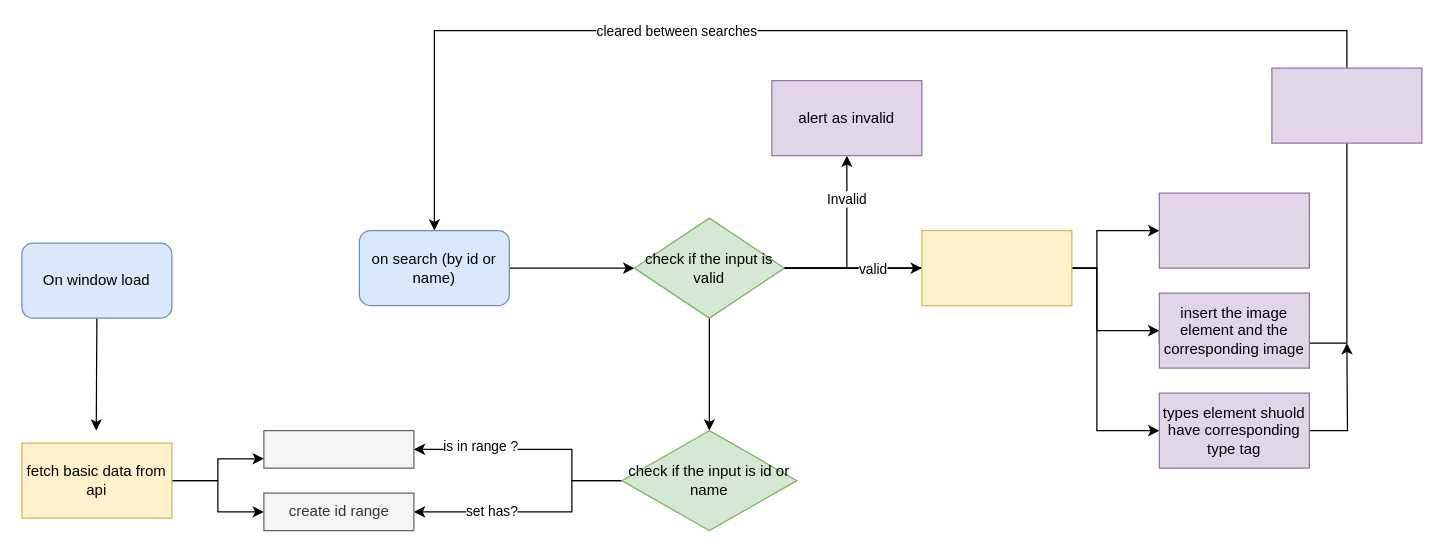
Image size: 1444x553. Some labels were removed from this diagram. The centre of each missing label's shape, as x and y in pixels:
add text content to the characteristic elements: the point at 1233,230
create a nameSet: the point at 338,448
delete their inner elements: the point at 1346,105
fetch inner data (stats): the point at 996,267
